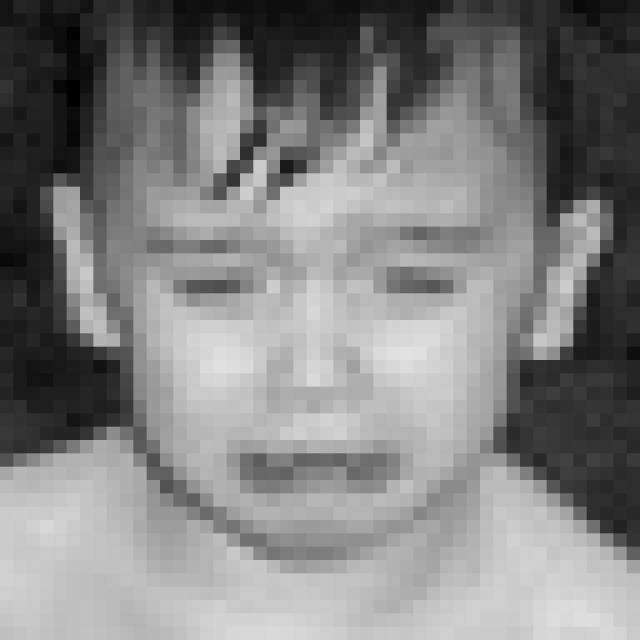sad: (127, 224, 500, 502)
